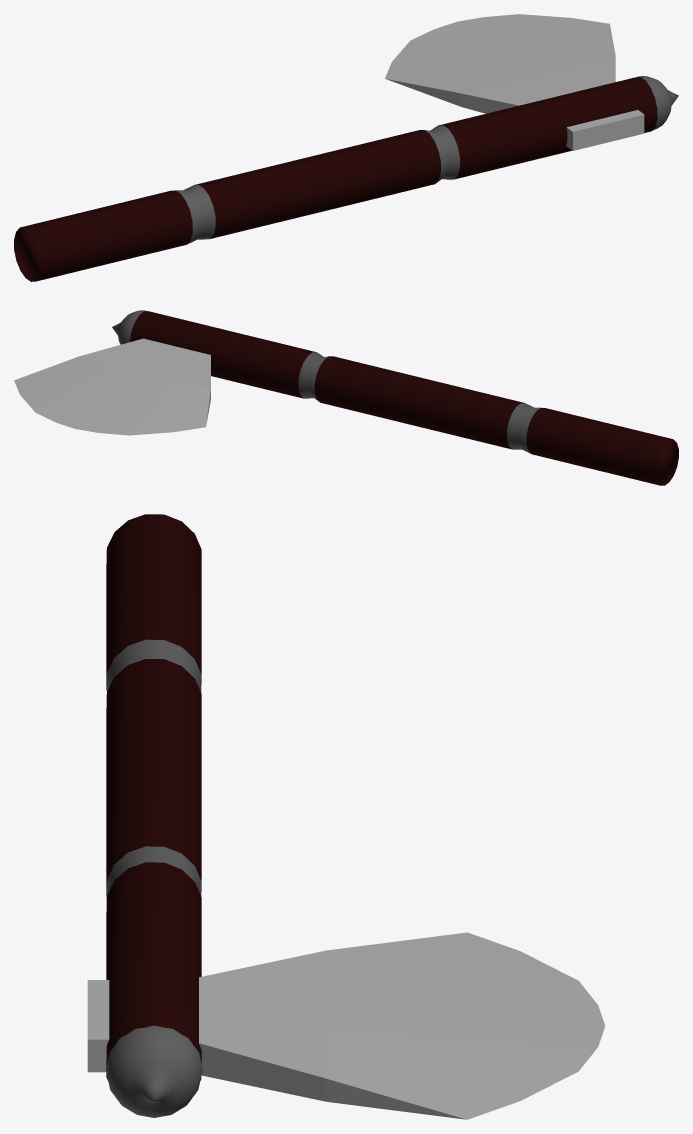
Rendered from SM_HandAxe.fbx.
The picture shows the model from 3 angles, top to bottom: view 1: azimuth 30°, elevation 25°; view 2: azimuth 150°, elevation 25°; view 3: azimuth 270°, elevation 25°; orthographic projection. The views are drawn at different scales.
Parts seen in each view (by area): view 1: Axe; view 2: Axe; view 3: Axe.
Part boxes in pixels (x1=…): Axe: x1=14, y1=14, x2=678, y2=281; Axe: x1=14, y1=310, x2=678, y2=485; Axe: x1=87, y1=514, x2=605, y2=1119.
Bounding box in the file's own units: 65.96 × 4.83 × 25.73.
